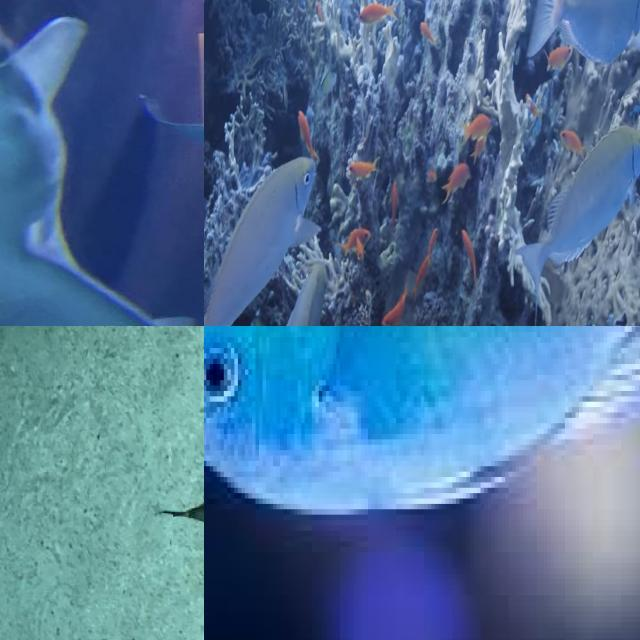fish: (0, 0, 204, 326), (235, 0, 414, 39)
